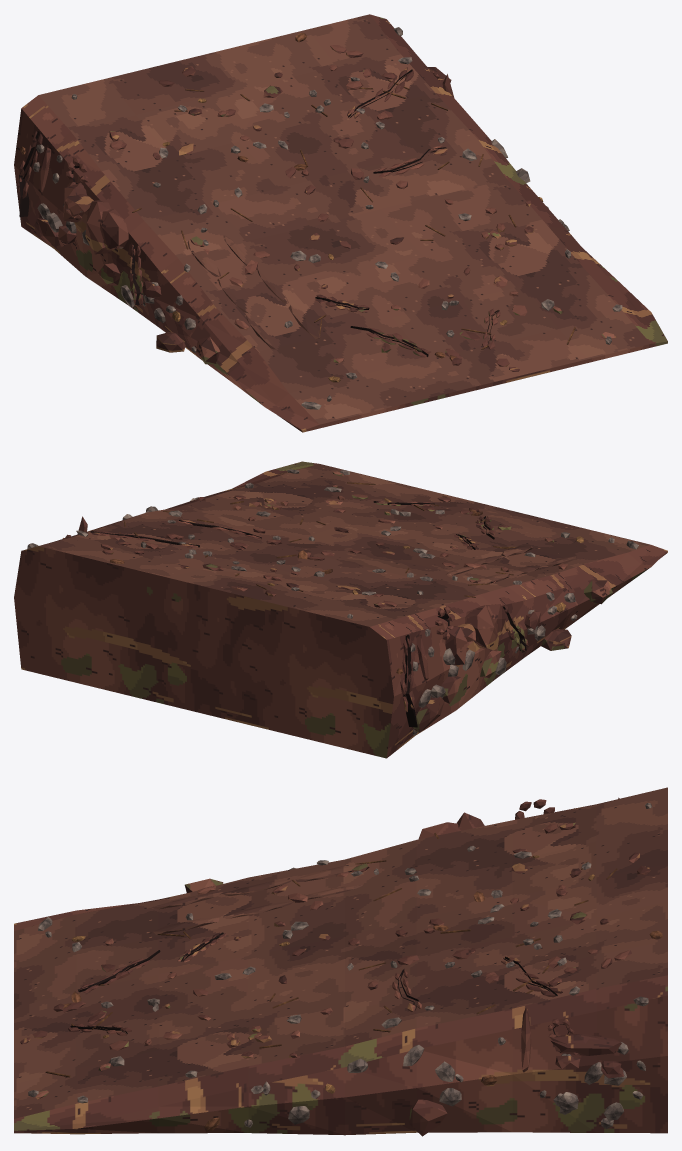
File: SM_AN07_EarthRamp.fbx
3 renders of one model, top to bottom at view 1: azimuth 30°, elevation 25°; view 2: azimuth 150°, elevation 25°; view 3: azimuth 270°, elevation 25°, orthographic. The views are drawn at different scales.
Parts seen in each view (by area): view 1: AN07a_Floor, AN07a_Earth, AN07a_Props; view 2: AN07a_Earth, AN07a_Floor, AN07a_Props; view 3: AN07a_Floor, AN07a_Earth, AN07a_Props.
Boxes of the visible parts, <box> form: AN07a_Floor: <box>38,14,650,424</box>; AN07a_Earth: <box>14,14,667,432</box>; AN07a_Props: <box>19,27,622,409</box>; AN07a_Earth: <box>14,461,667,758</box>; AN07a_Floor: <box>39,464,650,626</box>; AN07a_Props: <box>27,469,638,735</box>; AN07a_Floor: <box>14,787,667,1118</box>; AN07a_Earth: <box>14,790,667,1136</box>; AN07a_Props: <box>28,803,662,1131</box>.
Bounding box in the file's own units: 3.38 × 1.01 × 4.
